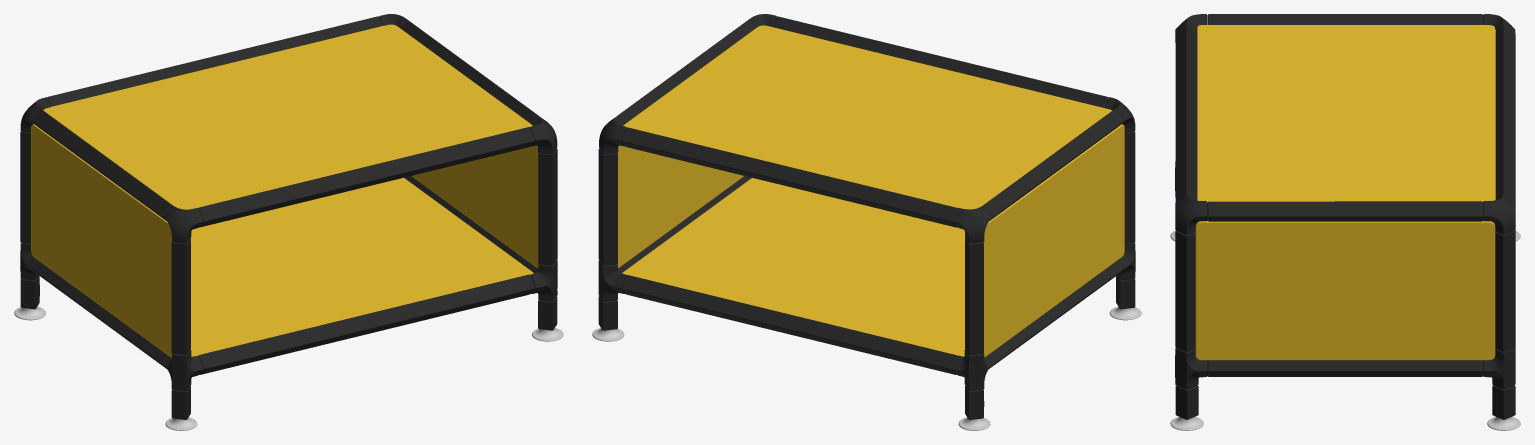
3 views of the same model, side by side, from view 1: azimuth 30°, elevation 25°; view 2: azimuth 150°, elevation 25°; view 3: azimuth 270°, elevation 25° (orthographic). The views are drawn at different scales.
Parts seen in each view (by area): view 1: 479x329x154; view 2: 479x329x154; view 3: 479x329x154.
Boxes of the visible parts, x1,y1,x2,y2 form: 479x329x154: (14,14,563,430); 479x329x154: (592,14,1141,430); 479x329x154: (1170,14,1520,430).
Size of the model in its own units: 0.5689 by 0.2933 by 0.4183.
